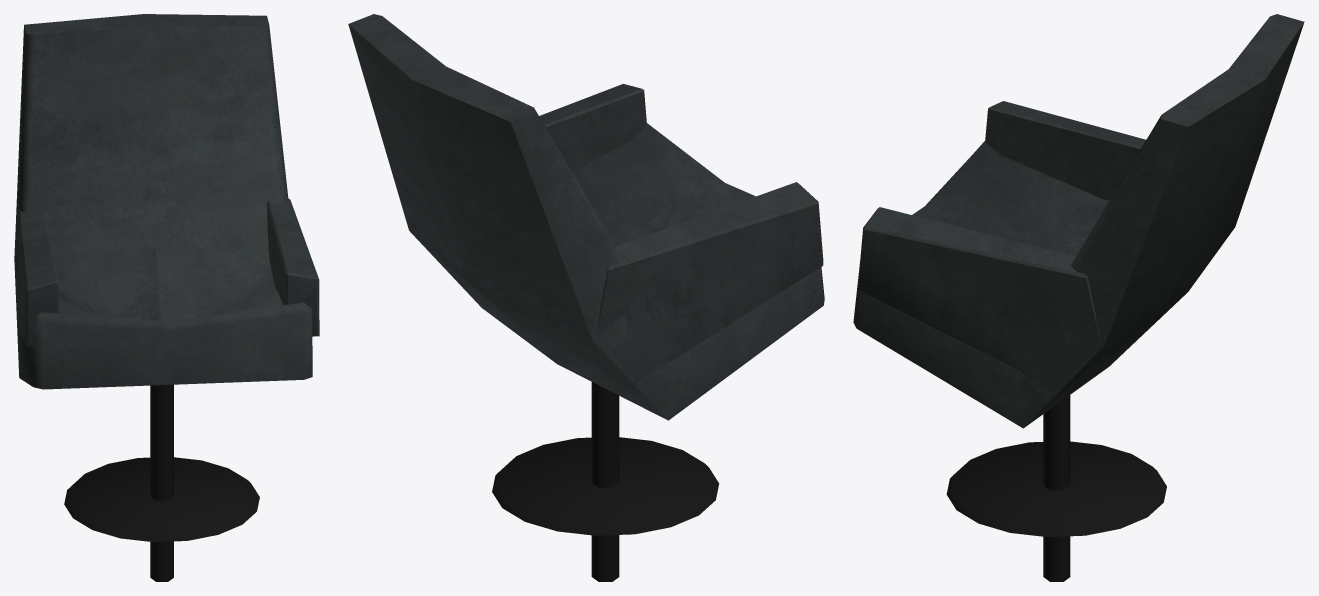
File: sillon.FBX
3 renders of one model, left to right at view 1: azimuth 30°, elevation 25°; view 2: azimuth 150°, elevation 25°; view 3: azimuth 270°, elevation 25°, orthographic. The views are drawn at different scales.
Parts seen in each view (by area): view 1: sillon; view 2: sillon; view 3: sillon.
Part boxes in pixels (x1,y1,x2,y2): sillon: [14, 14, 319, 581]; sillon: [348, 14, 824, 581]; sillon: [853, 14, 1304, 581].
Size of the model in its own units: 73.35 by 104 by 78.25.
